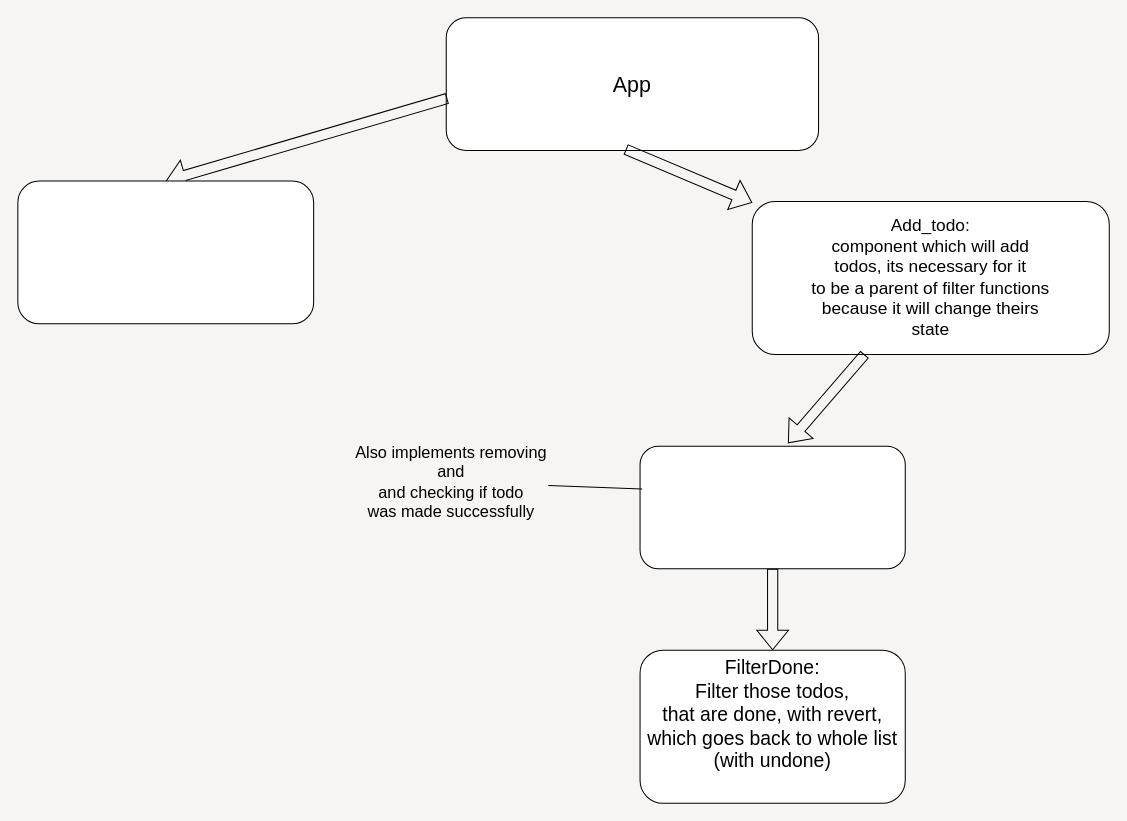
The diagram is 1127 pixels wide and 821 high, and some of its shapes have lost their labels. The box of each missing label's shape, as (x1, y1, x2, y2) in pixels:
App_info: Some basic headers and info about application: (17, 180, 314, 324)
Todos: Displays todos in nice column: (639, 445, 905, 569)
